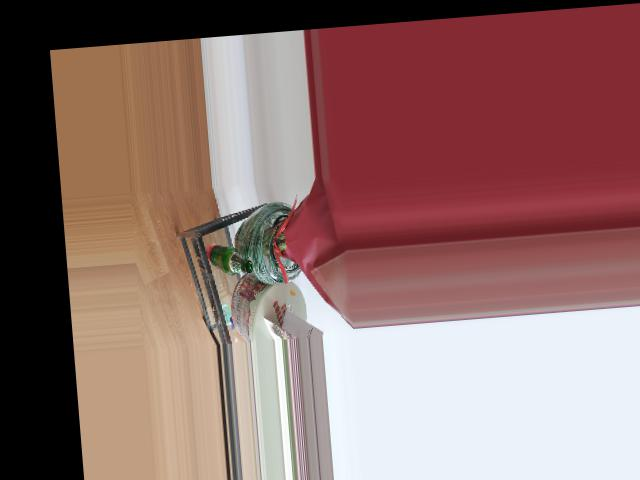beer: (208, 241, 253, 276)
